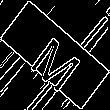M_NE: (24, 21, 86, 89)
